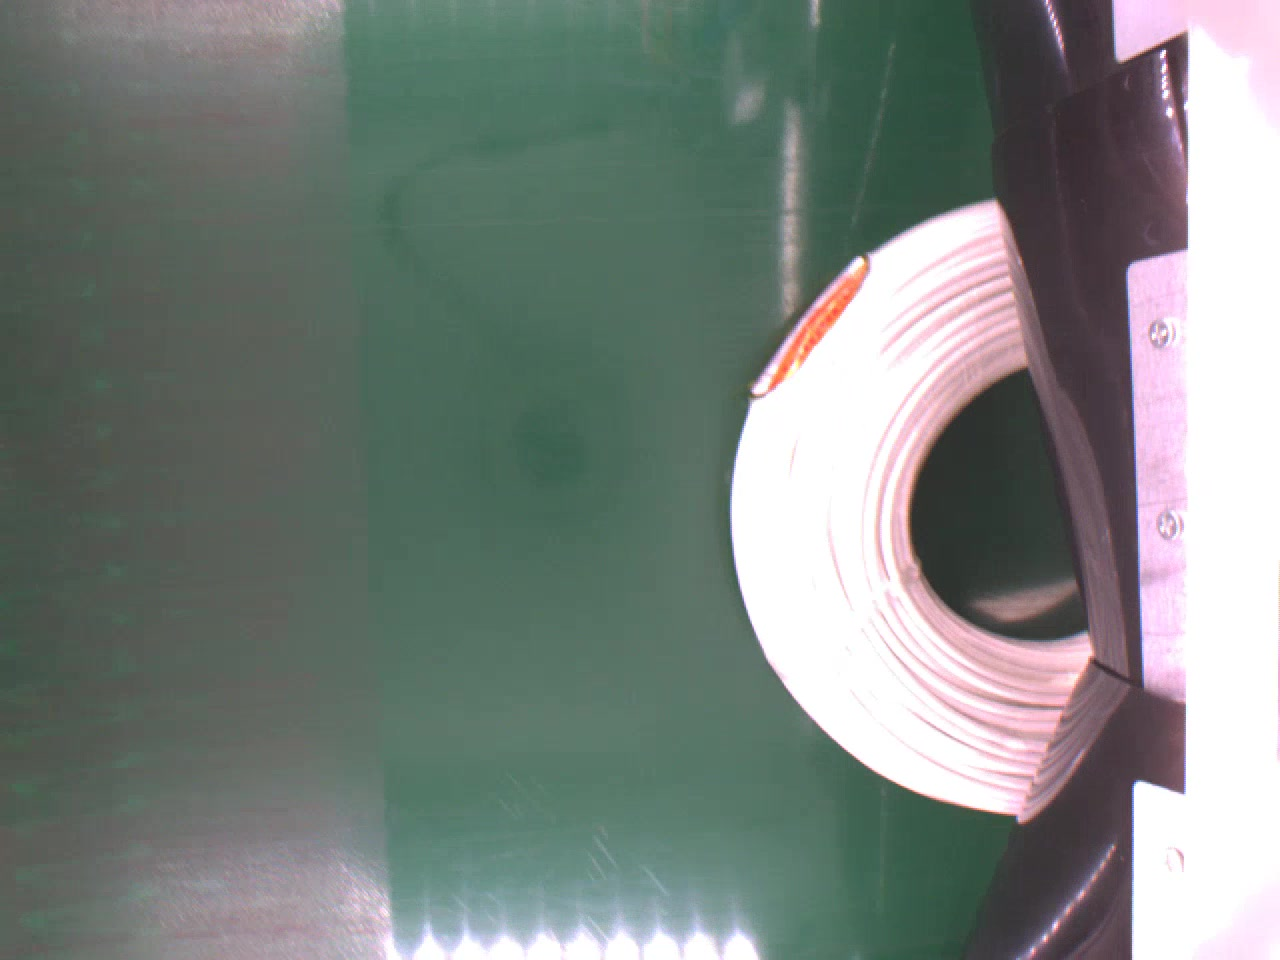white: (726, 191, 1092, 820)
